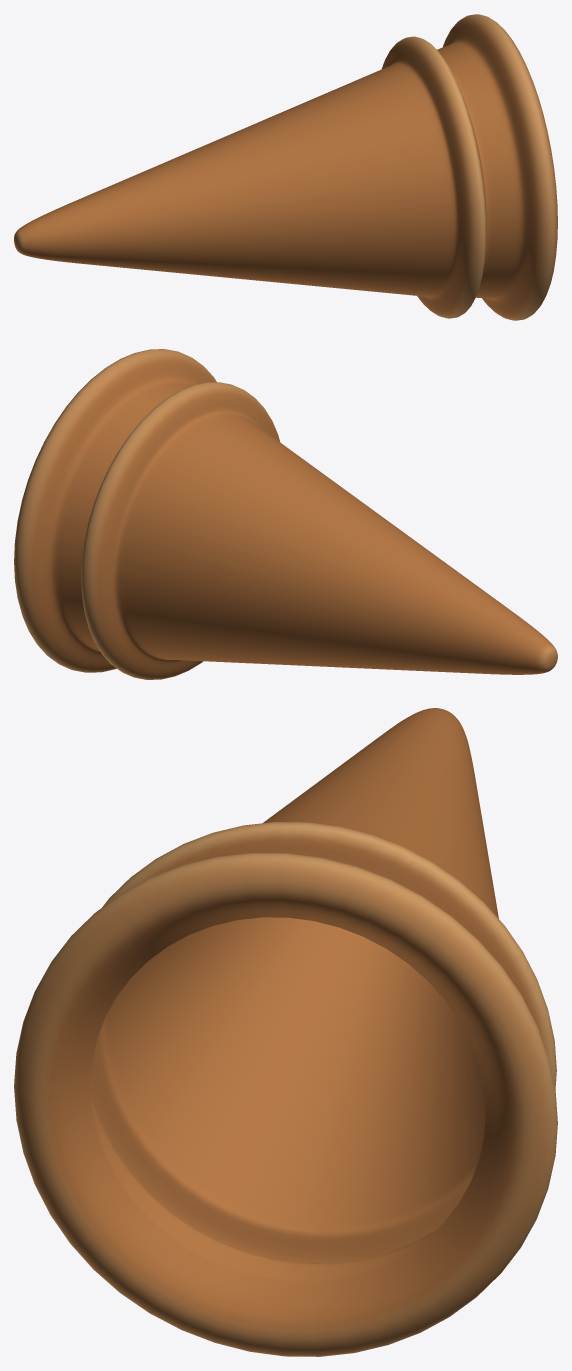
The picture shows the model from 3 angles, top to bottom: view 1: azimuth 30°, elevation 25°; view 2: azimuth 150°, elevation 25°; view 3: azimuth 270°, elevation 25°; orthographic projection. The views are drawn at different scales.
Visible parts, largest first — view 1: Cylinder.402; view 2: Cylinder.402; view 3: Cylinder.402.
Boxes of the visible parts, x1,y1,x2,y2 form: Cylinder.402: (14, 14, 557, 320); Cylinder.402: (14, 349, 557, 679); Cylinder.402: (14, 708, 557, 1356).
Size of the model in its own units: 6.01 by 3.43 by 3.38.
Materials: 1 (1 with a texture image).
